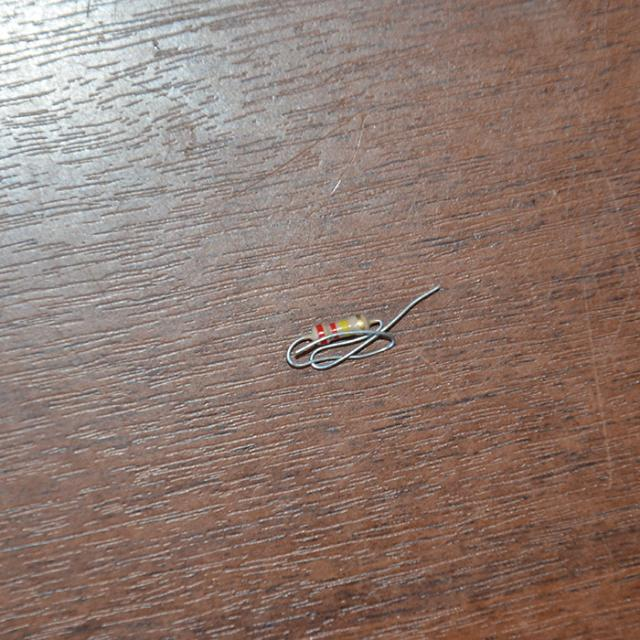gold: (356, 315, 364, 330)
red: (315, 325, 325, 340), (329, 322, 337, 334)
resistor: (305, 309, 379, 350)
yellow: (339, 319, 349, 333)
